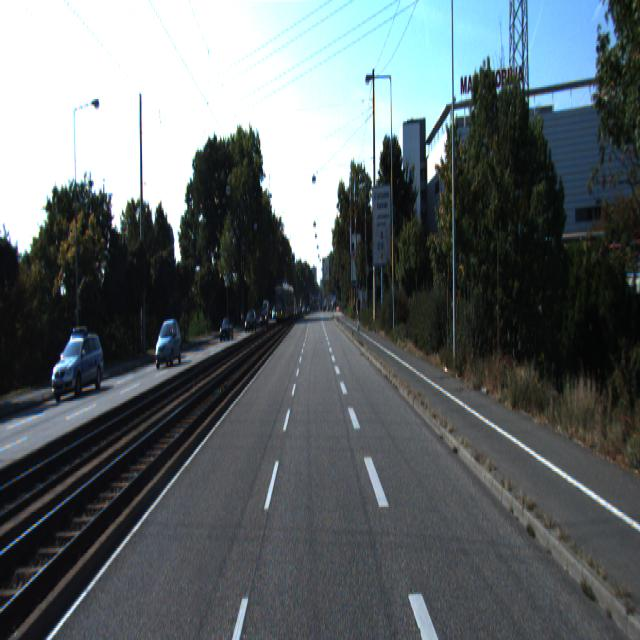Car: (51, 328, 107, 404), (152, 318, 182, 371)
